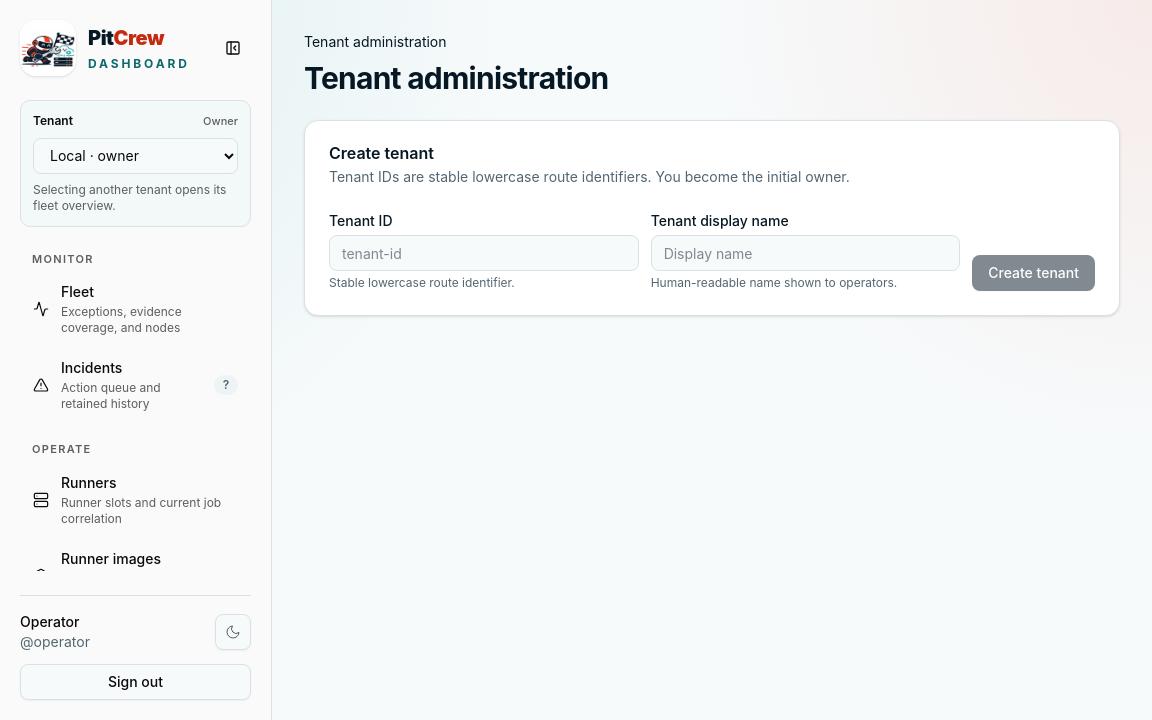
it: authenticated routing › refreshes the session and routes to the new tenant fleet after creation
In the field labelled "Tenant ID": (484, 253) [329,235,639,271], type "new-tenant"
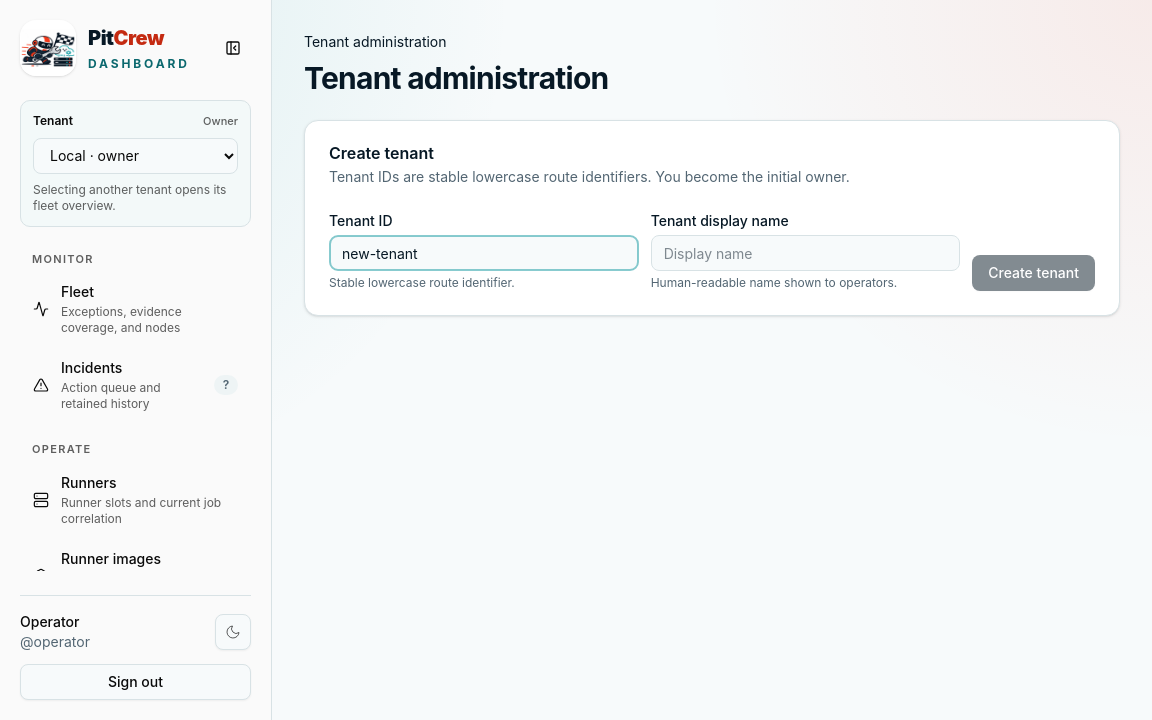
In the field labelled "Tenant display name": (805, 253) [651,235,960,271], type "New tenant"
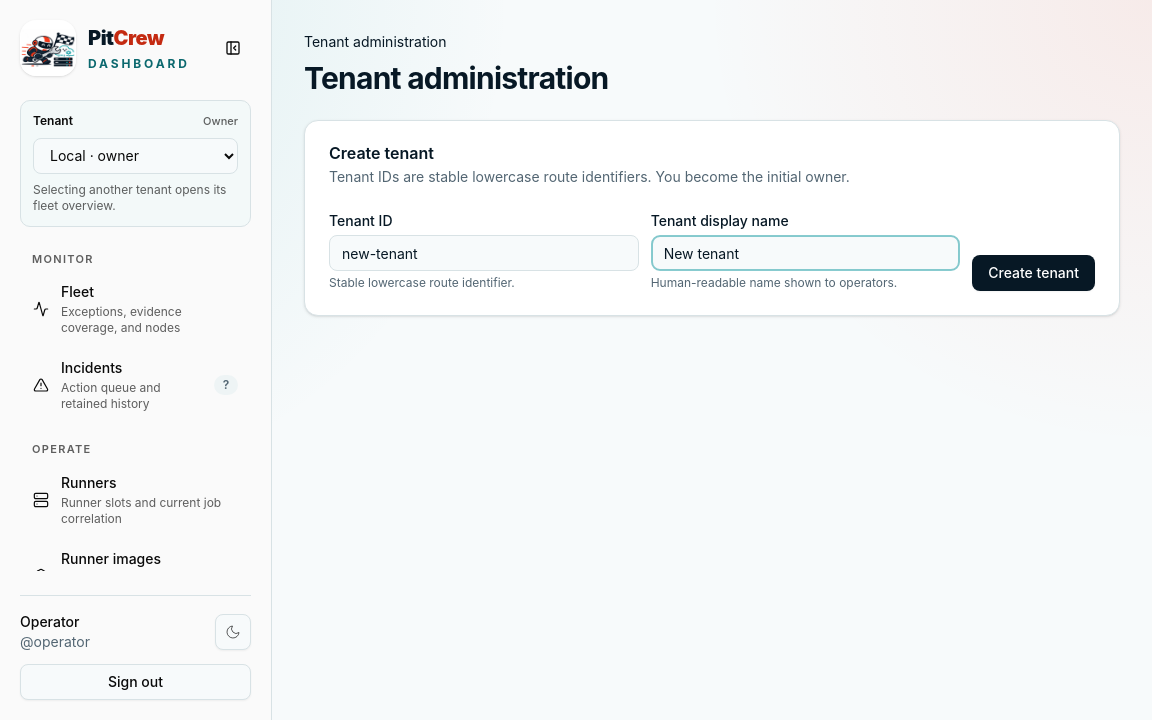
Click the button "Create tenant": (1034, 273) [972,255,1095,291]
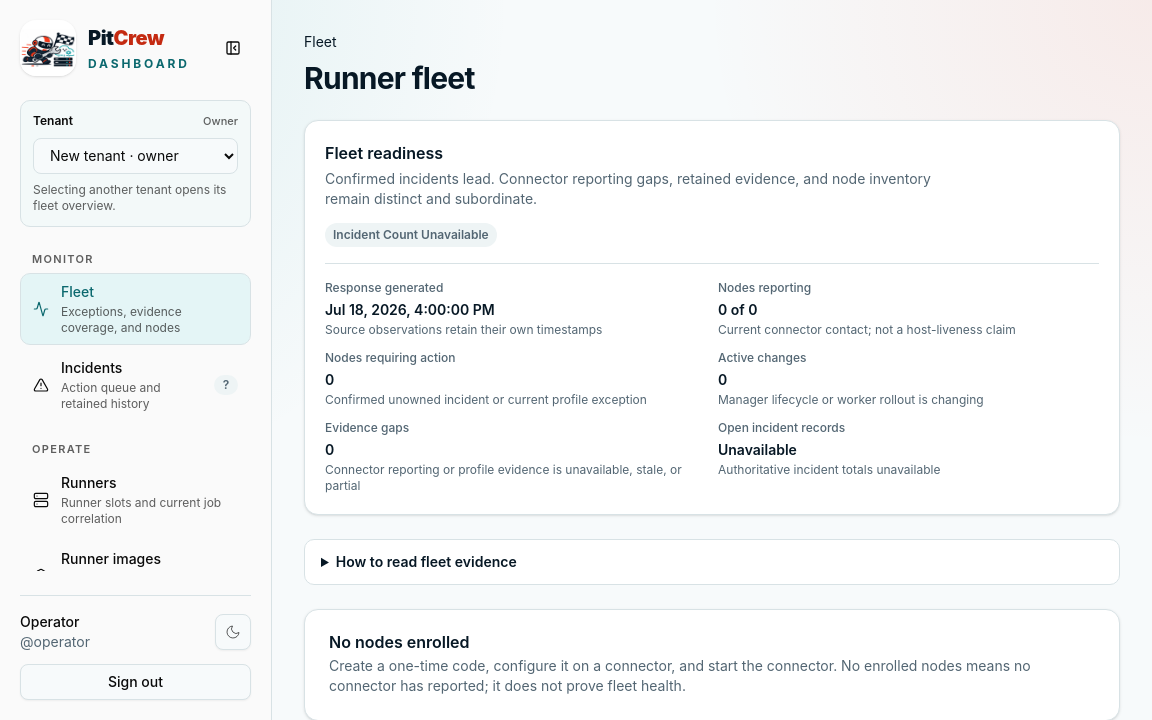
Expected: the heading "No nodes enrolled" is shown, [329,632,470,652]
